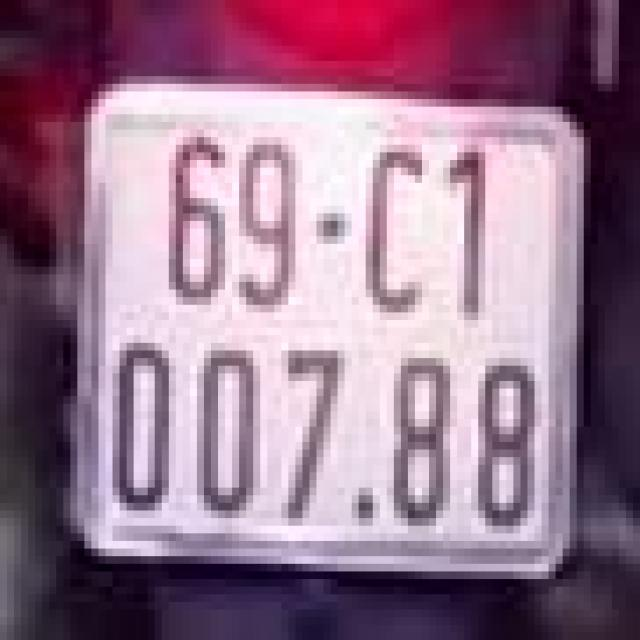0: (98, 320, 176, 533), (186, 343, 271, 526)
1: (439, 137, 503, 335)
6: (162, 122, 232, 320)
7: (267, 328, 352, 533)
8: (376, 335, 461, 549), (468, 343, 552, 541)
9: (232, 141, 303, 324)
C: (355, 126, 440, 324)
